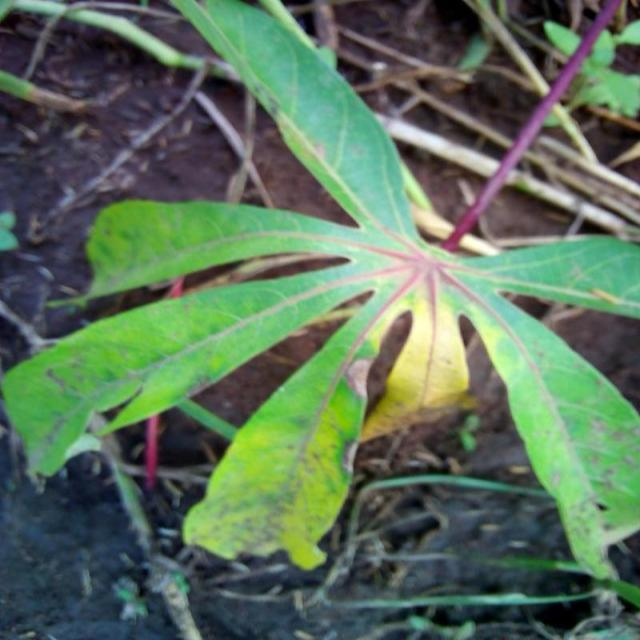cassava leaf: (1, 0, 640, 595)
